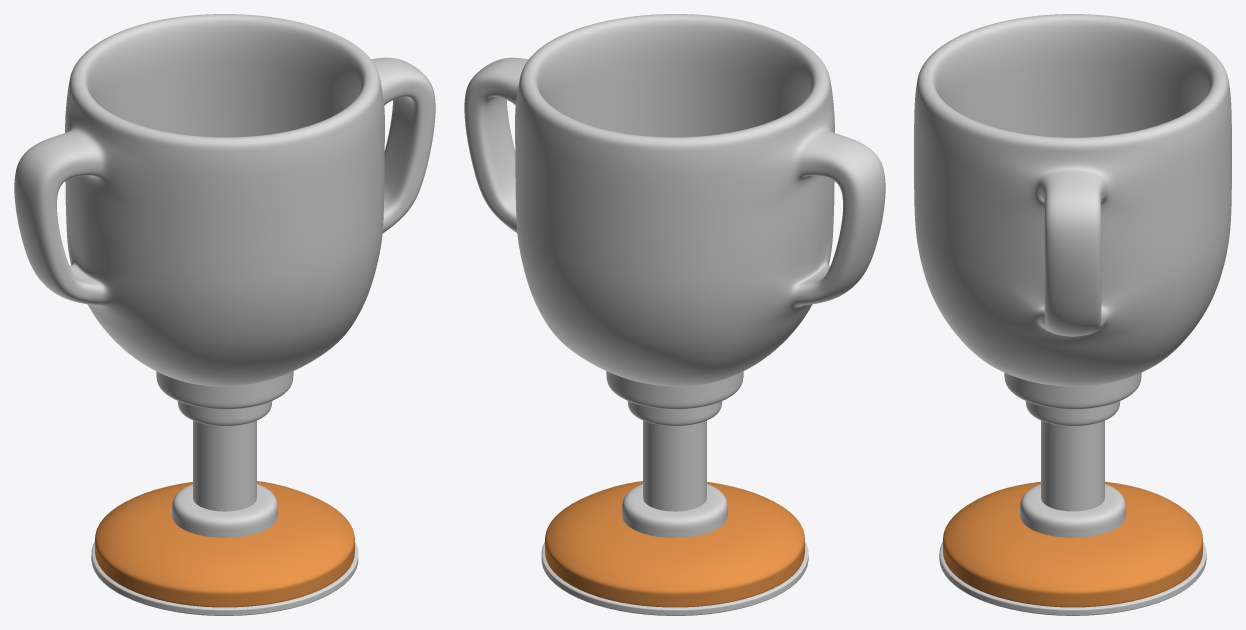
The model's file is trophy.glb.
3 renders of one model, left to right at view 1: azimuth 30°, elevation 25°; view 2: azimuth 150°, elevation 25°; view 3: azimuth 270°, elevation 25°, orthographic.
Parts seen in each view (by area): view 1: Cube.016; view 2: Cube.016; view 3: Cube.016.
Boxes of the visible parts, left/top/right/bottom form: Cube.016: left=14, top=14, right=435, bottom=615; Cube.016: left=464, top=14, right=885, bottom=615; Cube.016: left=914, top=14, right=1231, bottom=615.
Size of the model in its own units: 1.68 by 1.92 by 1.14.
